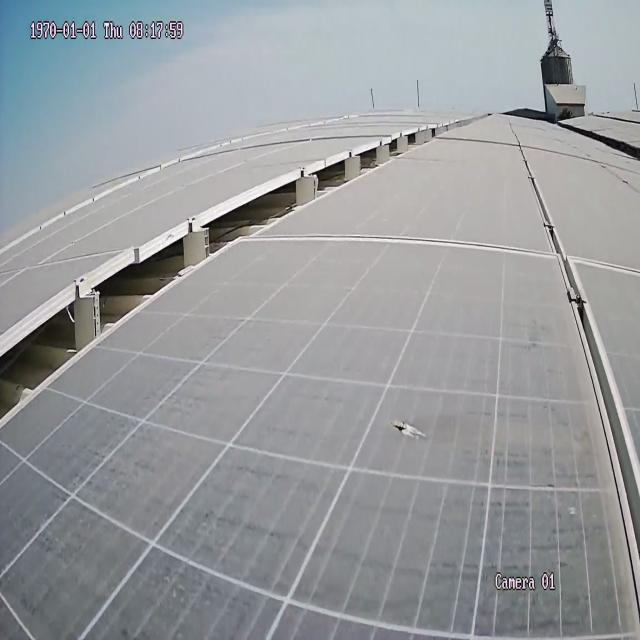interior panel: (513, 142, 639, 591), (267, 230, 556, 265), (571, 250, 639, 287)
outher panel: (2, 117, 472, 422), (578, 125, 639, 169)
